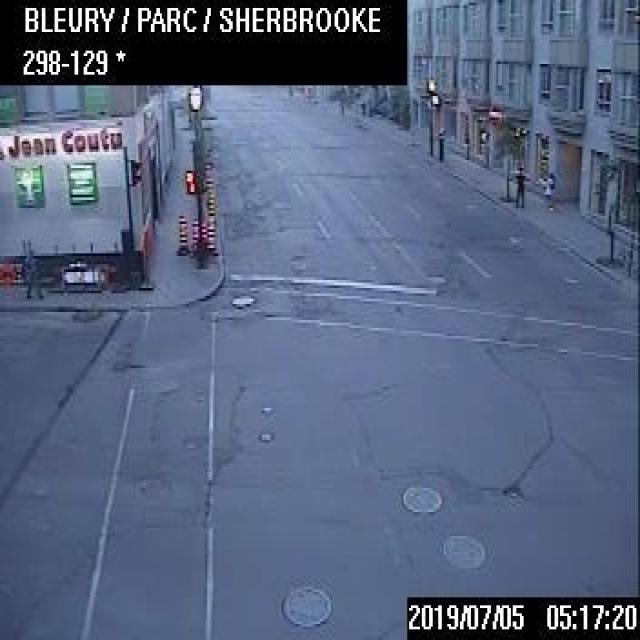construction: (174, 212, 188, 253), (204, 214, 216, 253), (204, 190, 214, 219), (189, 216, 197, 252), (203, 174, 213, 191), (199, 219, 206, 243)
pedestrian: (20, 240, 43, 297), (513, 161, 524, 207)
